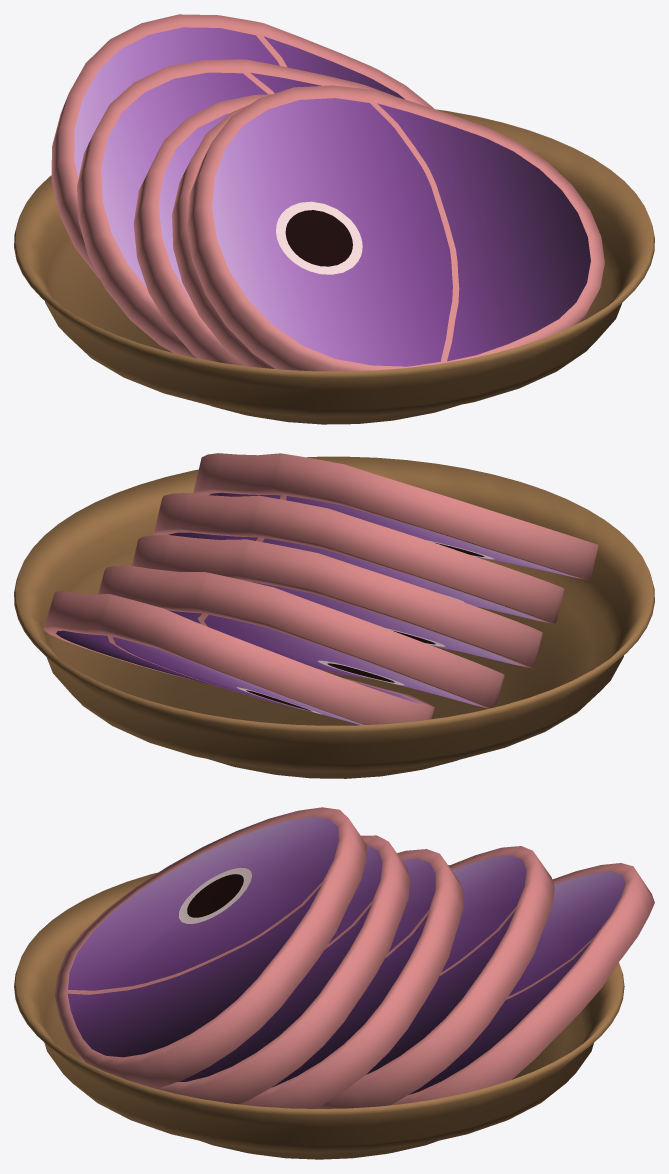
File: demon_meat.gltf
3 views of the same model, one above another, from view 1: azimuth 30°, elevation 25°; view 2: azimuth 150°, elevation 25°; view 3: azimuth 270°, elevation 25° (orthographic). The views are drawn at different scales.
Parts seen in each view (by area): view 1: demon_meat, plate; view 2: demon_meat, plate; view 3: demon_meat, plate.
Boxes of the visible parts, box(x1,y1,x2,y2) form: demon_meat: box(51, 14, 604, 371); plate: box(14, 109, 654, 424); demon_meat: box(43, 453, 598, 725); plate: box(14, 456, 654, 778); demon_meat: box(55, 807, 654, 1108); plate: box(14, 865, 624, 1159).
Size of what is drawn, in the model's own units: 0.542 by 0.2418 by 0.569.
1 material, 1 textured.
